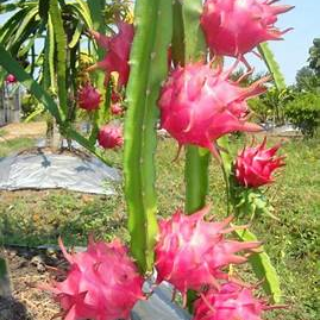thanh_long: (155, 61, 267, 156), (155, 207, 256, 296), (53, 239, 145, 320), (197, 1, 294, 65), (235, 137, 286, 193)
